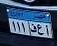1: (16, 21, 21, 34), (11, 20, 16, 31), (22, 22, 26, 33)
ain: (37, 24, 44, 36)
alif: (45, 24, 50, 36)
faa: (30, 24, 37, 33)
